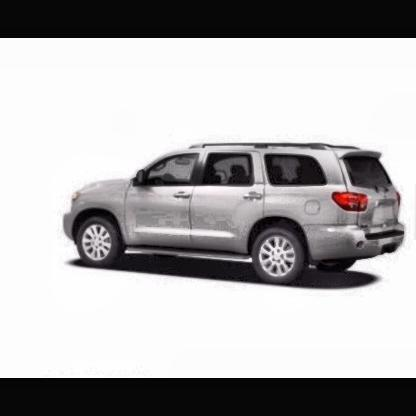Toyota Sequoia SUV 2012: (62, 145, 406, 288)
